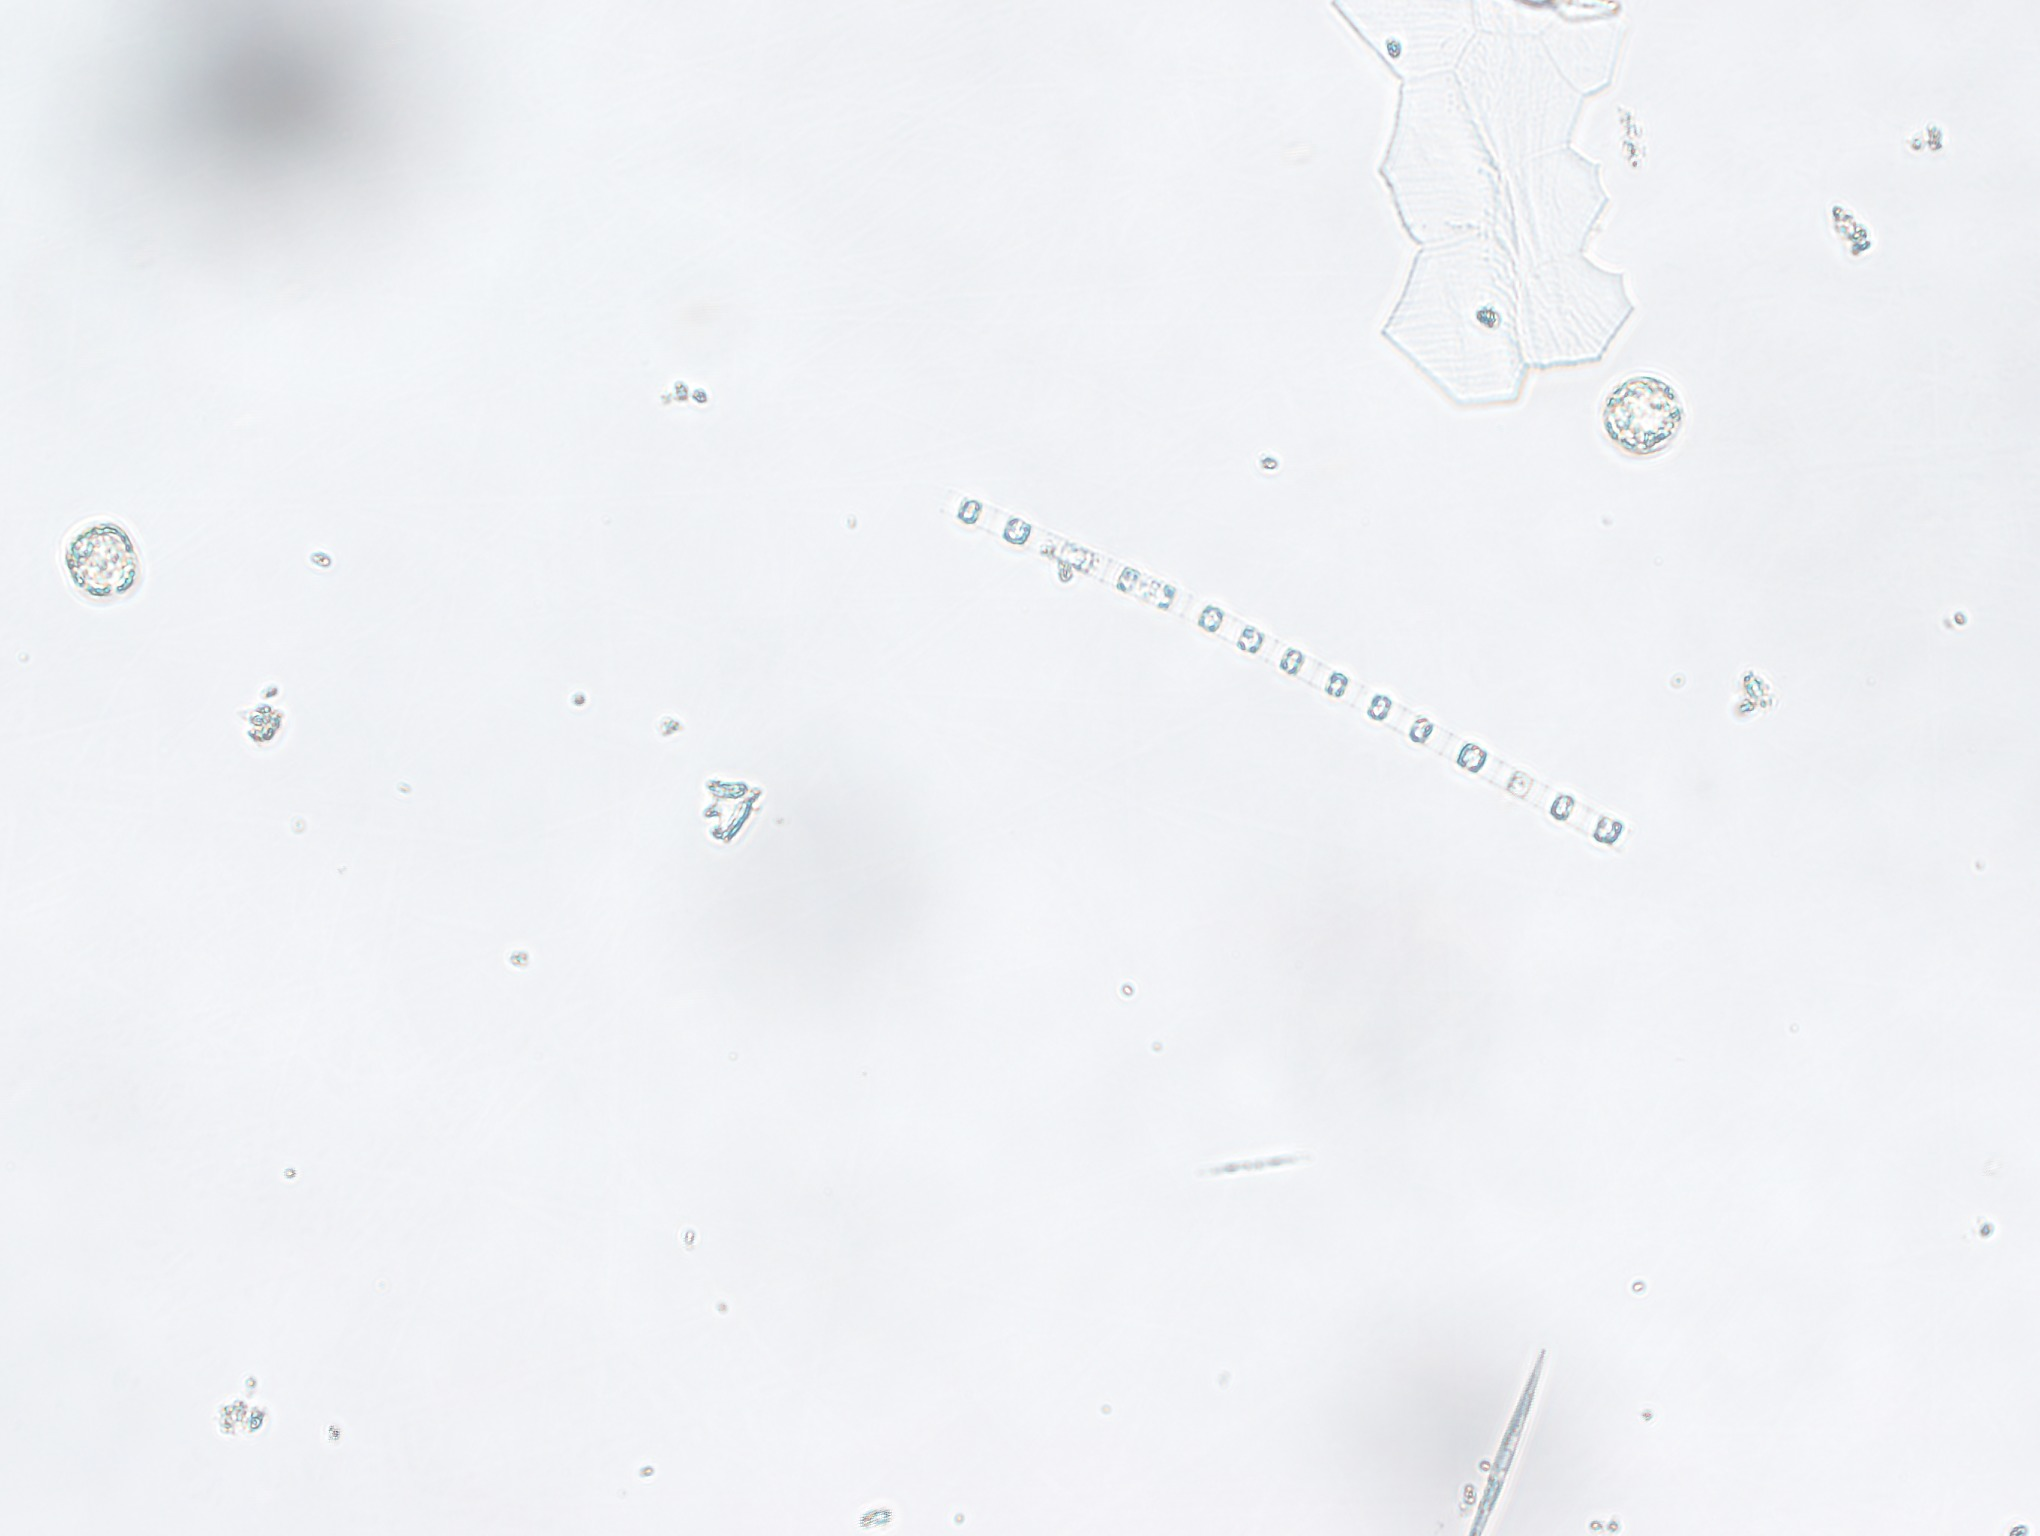pleurosigma pelagicum: (1447, 1333, 1559, 1536)
skeletonema: (943, 478, 1638, 879)
